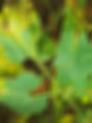Tomato Early blight leaf: (58, 6, 92, 102), (1, 0, 45, 65), (0, 75, 53, 109)
